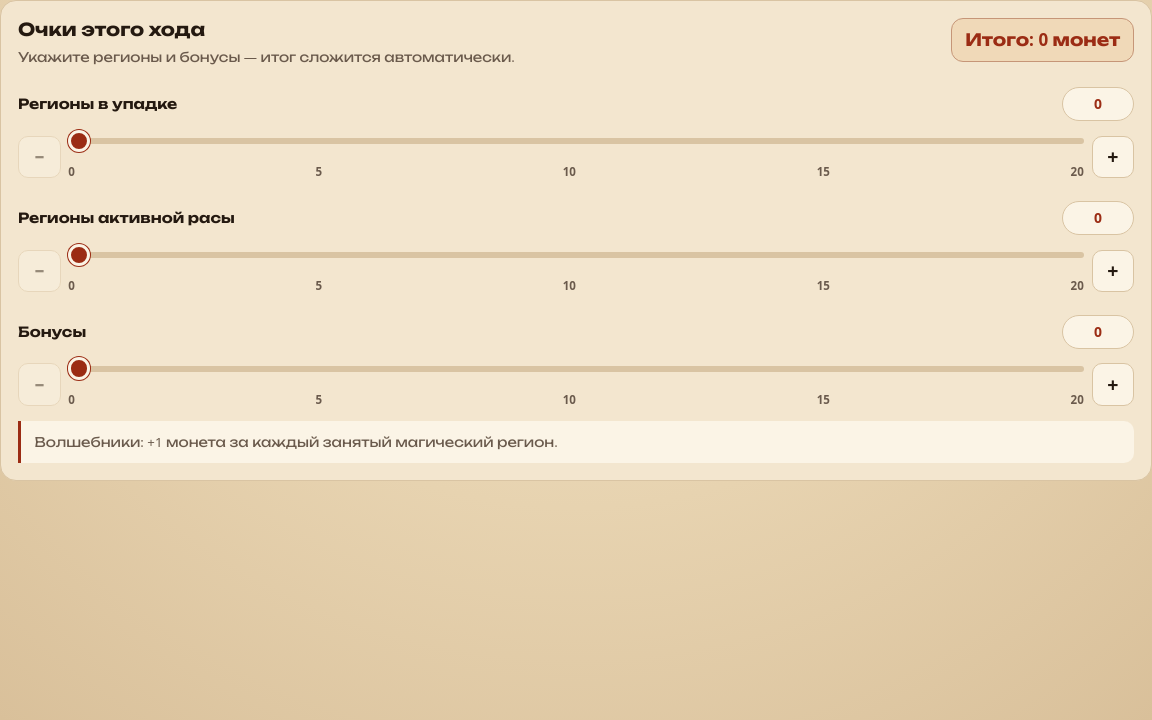
Test: TurnScoreInput › keeps only the digits typed into a text field
Replace the text in the field named "Точное число активных регионов" with "7 регионов" at (1098, 218), box [1062, 201, 1134, 235]
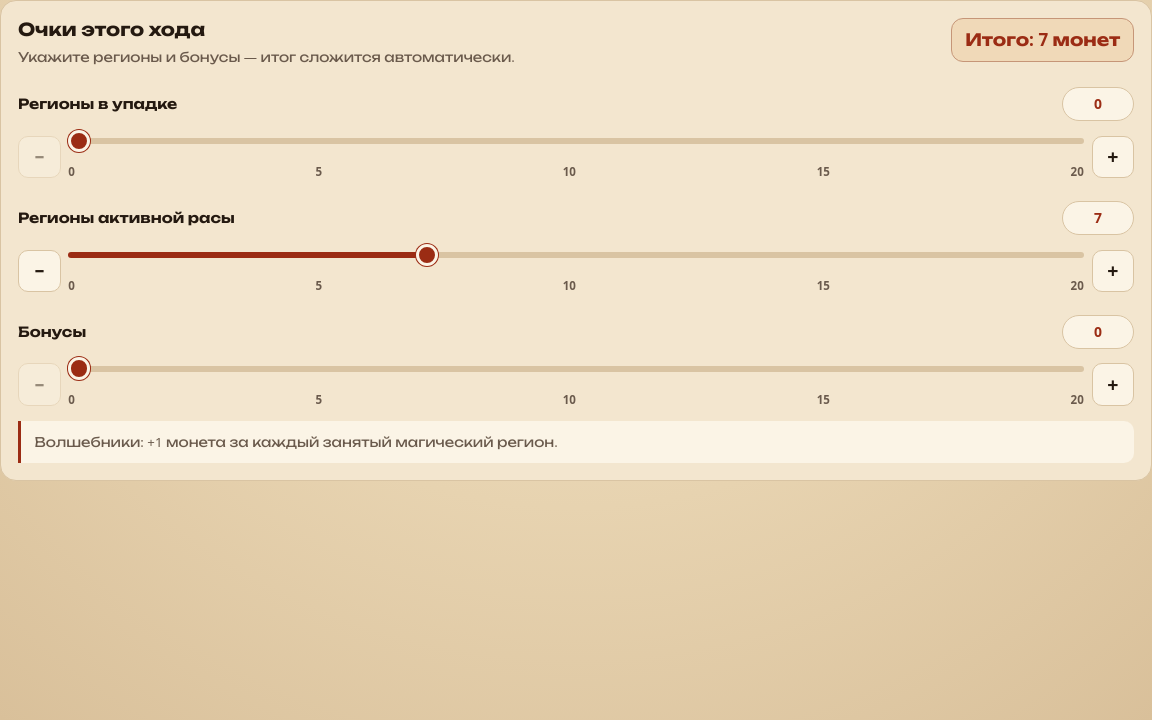
Now the text "Итого: 7 монет" is shown, box [951, 18, 1134, 62]
